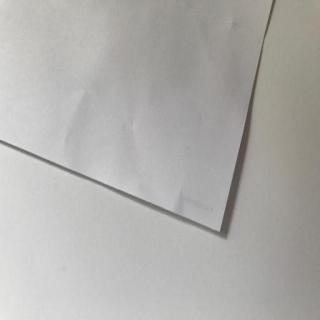Anorganik: (1, 2, 274, 232)
